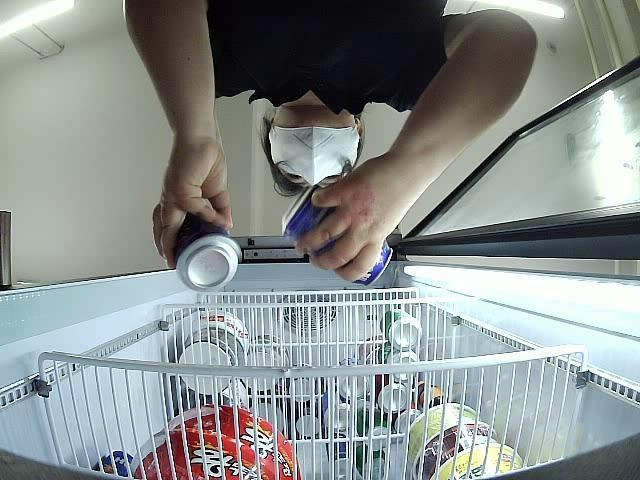14_welchsGrape: (281, 184, 394, 285), (156, 212, 242, 290)
